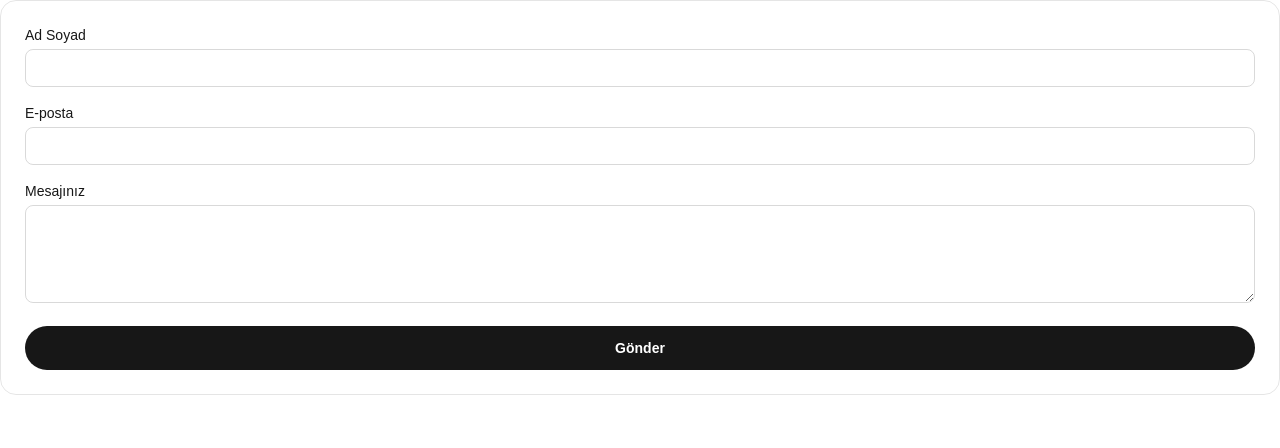
it: ContactForm (emailEnabled) › başarıda onay mesajı gösterir ve formu sıfırlar
Step 1. Type "Ayşe Yılmaz" into the field labelled "Ad Soyad" → (640, 68), box [25,49,1255,87]
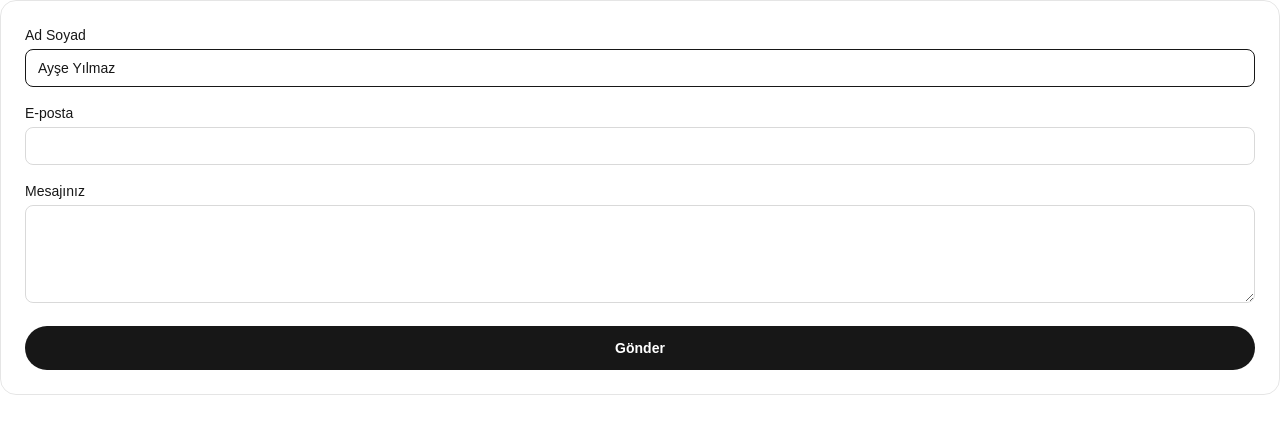
Step 2. Type "ayse@example.com" into the field labelled "E-posta" → (640, 146), box [25,127,1255,165]
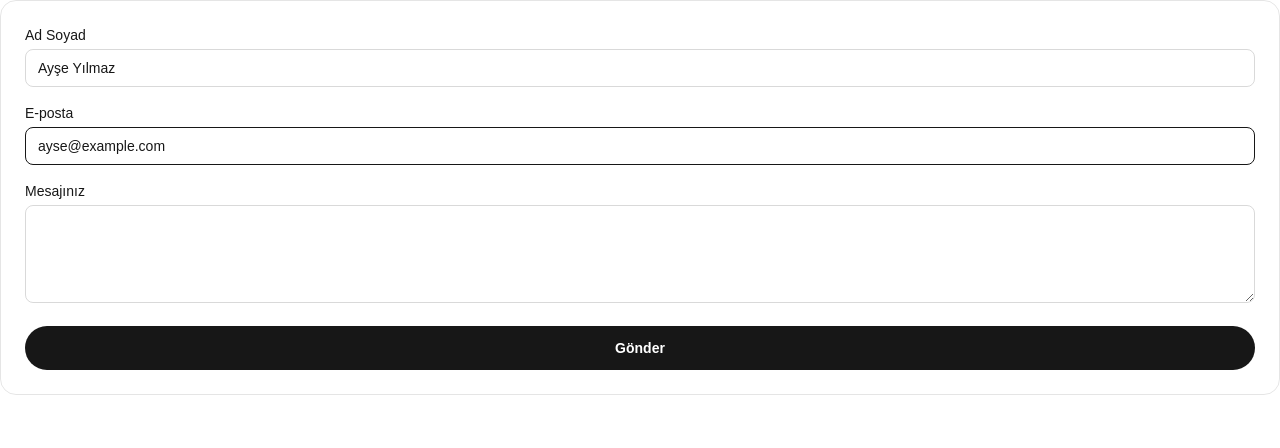
Step 3. Type "Üyelik hakkında bilgi almak istiyorum." into the text box labelled "Mesajınız" → (640, 254), box [25,205,1255,303]
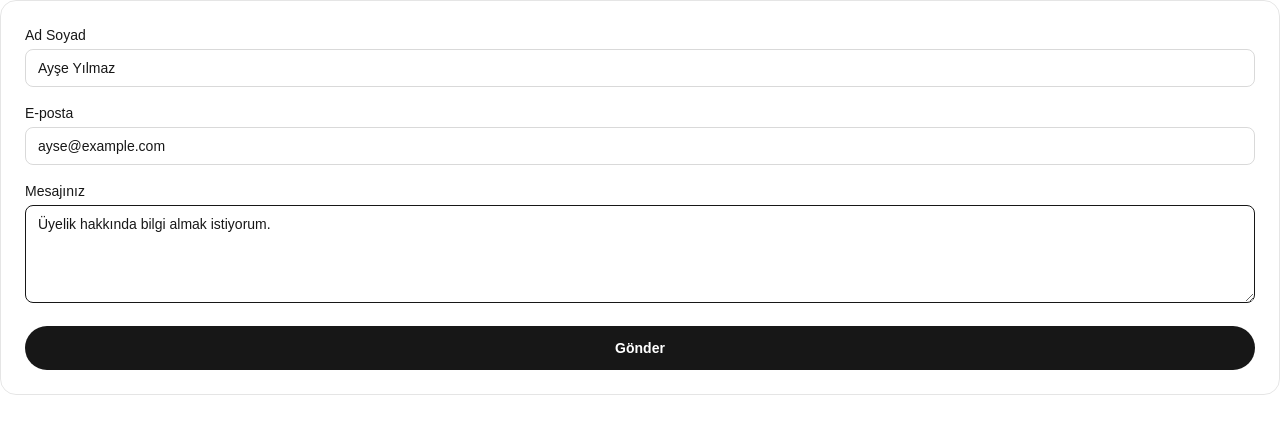
Step 4. Click the button "Gönder" → click(640, 348), box [25,326,1255,370]
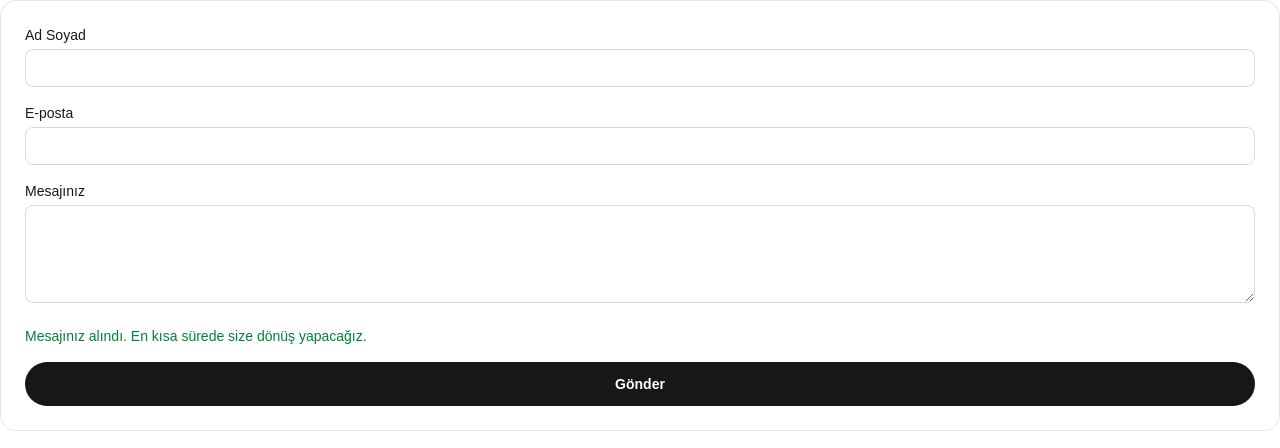
Expected: the message shows "Mesajınız alındı.", [25,328,367,344]
Expected: the field labelled "Ad Soyad" is empty, [25,49,1255,87]
